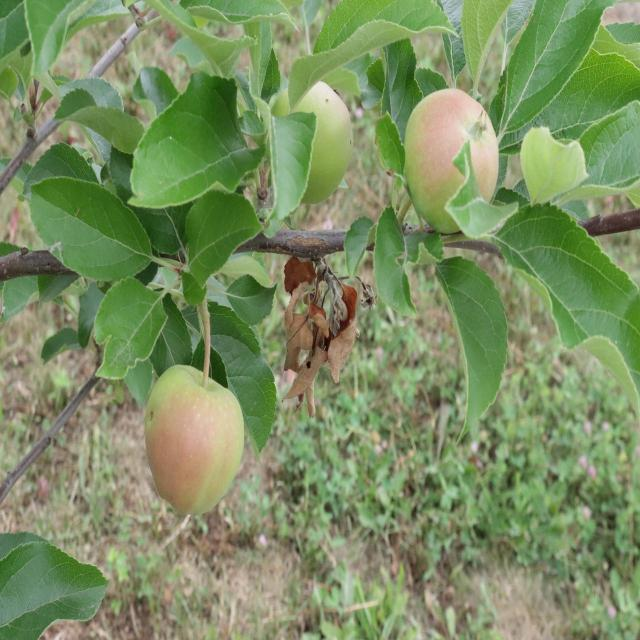-FireBlight-: (278, 254, 360, 414)
